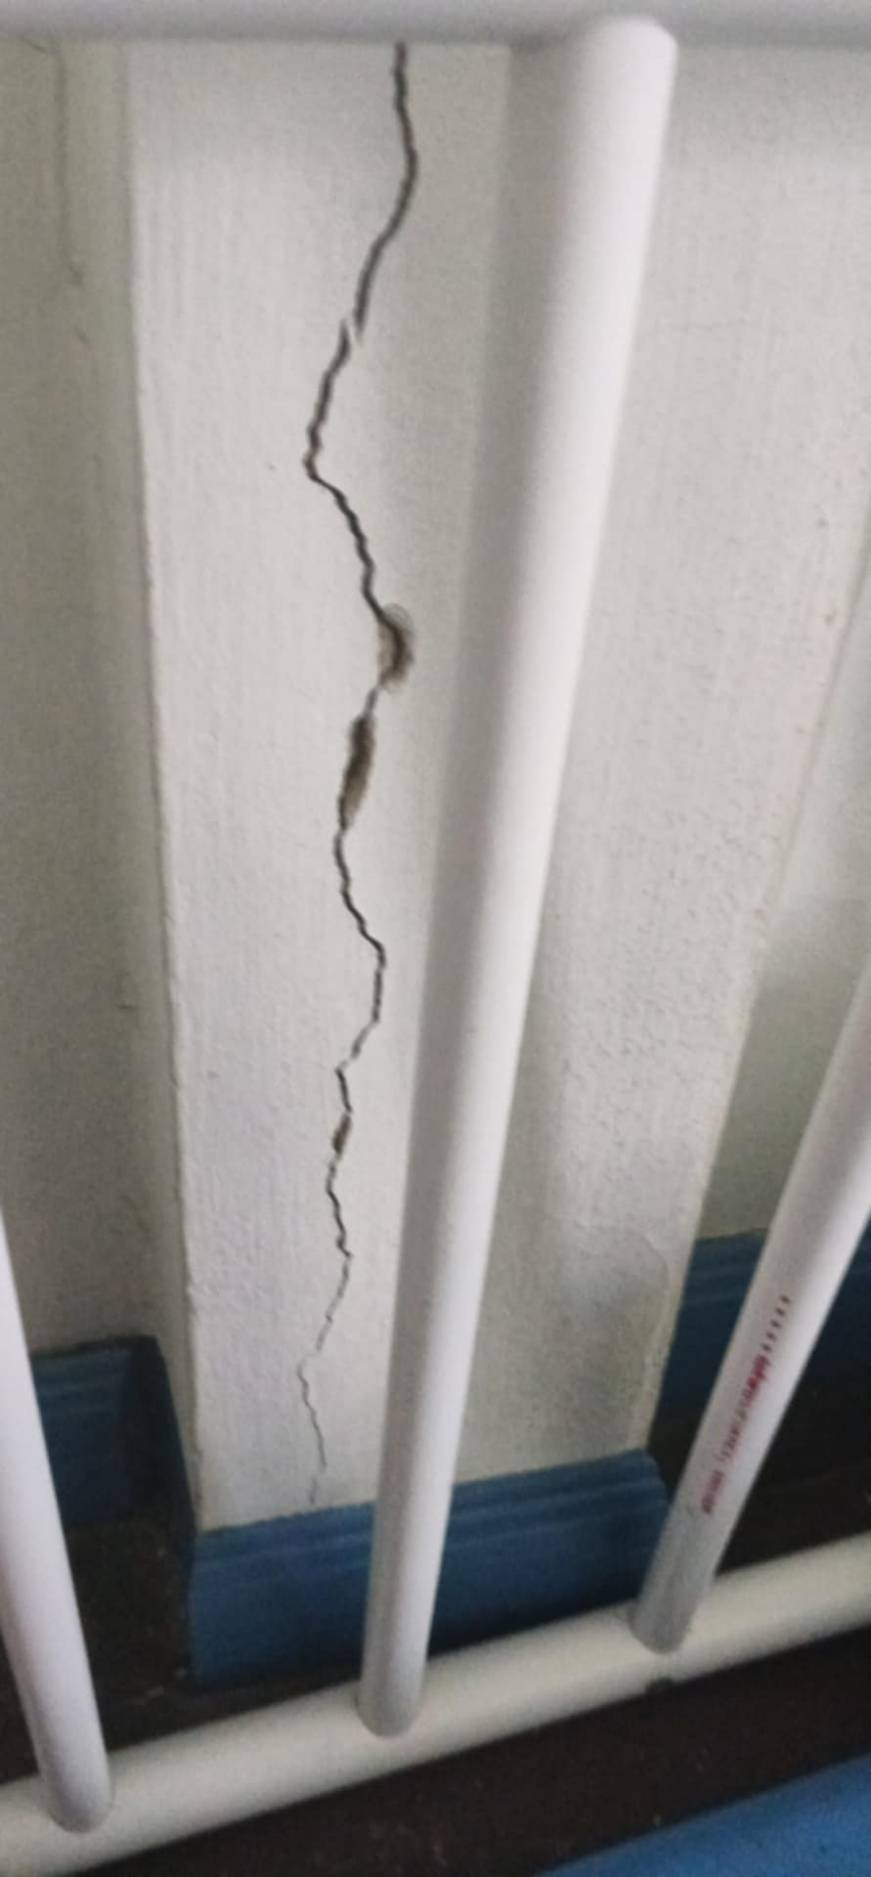High: (207, 41, 447, 1510)
